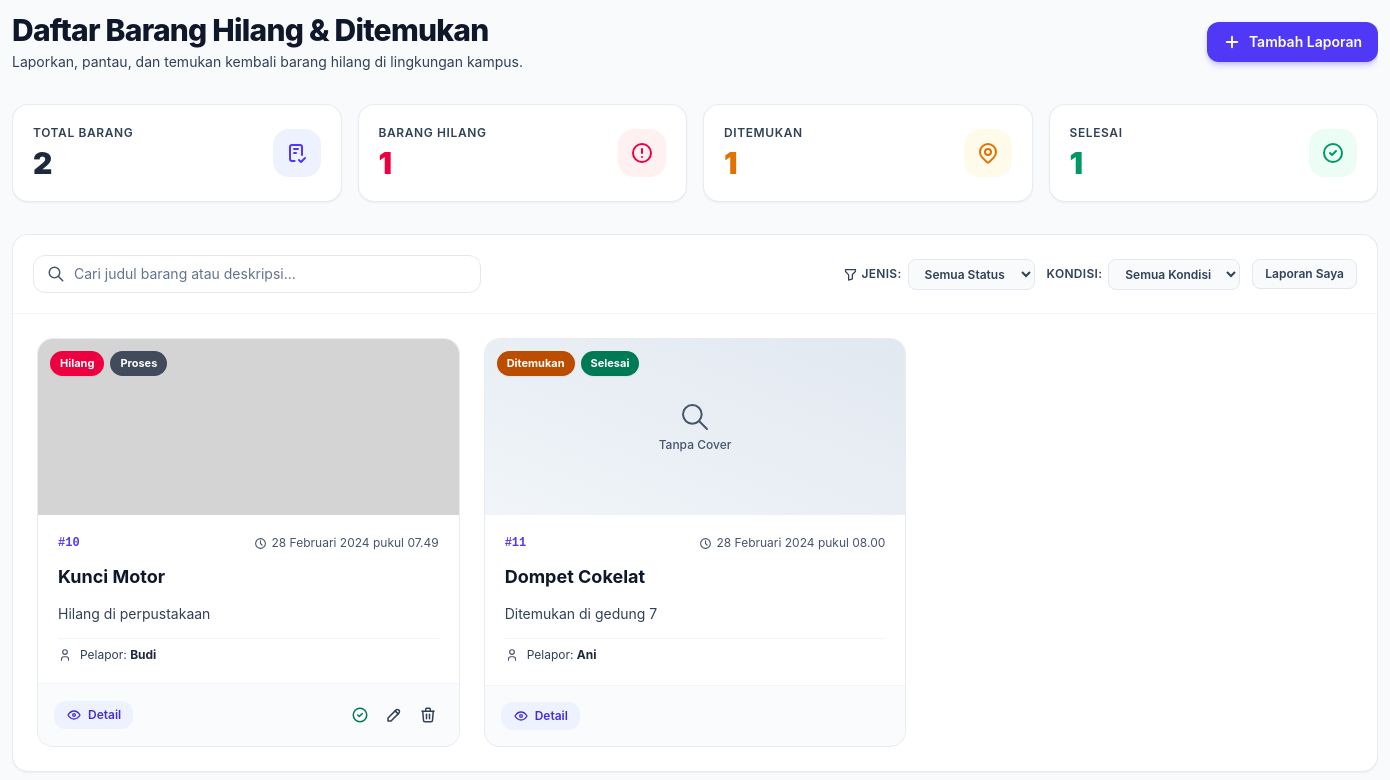
it: HomePage › filters items by live search
The image size is (1390, 780).
Type "Dompet" into the field with test id "search-lost-found-input" at (257, 274), box [33,255,481,293]
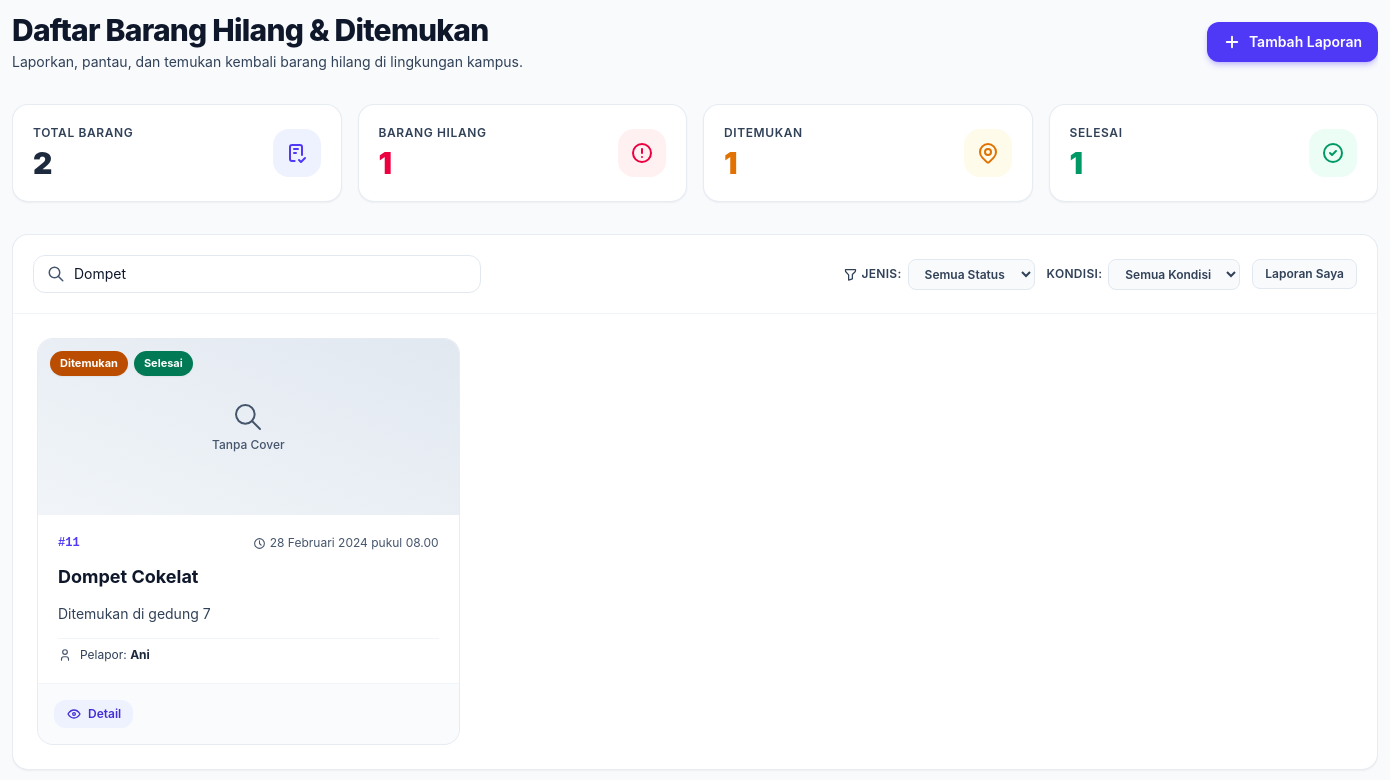
Expected: the heading "Dompet Cokelat" is shown, [58,566,198,587]
Expected: the heading "Kunci Motor" is gone
